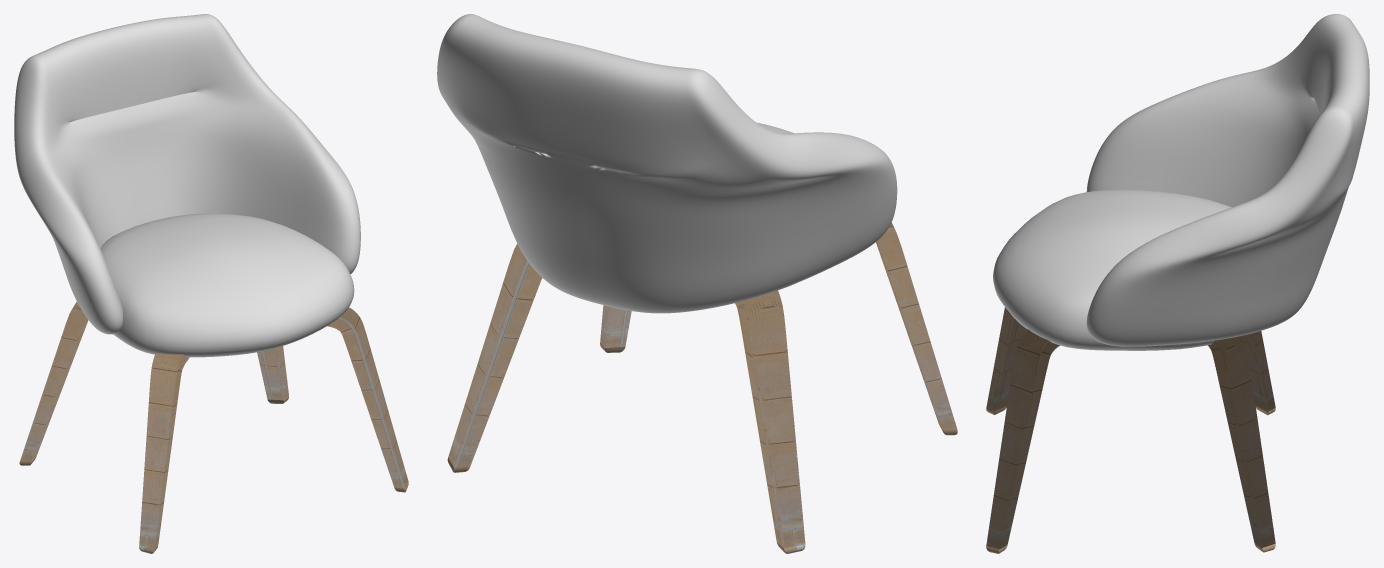
The model's file is chair_005.gltf.
3 views of the same model, side by side, from view 1: azimuth 30°, elevation 25°; view 2: azimuth 150°, elevation 25°; view 3: azimuth 270°, elevation 25° (orthographic). The views are drawn at different scales.
Visible parts, largest first — view 1: chair_005_plane, Line010_Line010; view 2: chair_005_plane, Line010_Line010; view 3: chair_005_plane, Line010_Line010.
Boxes of the visible parts, bbox=[...] form: chair_005_plane: bbox=[14, 14, 360, 357]; Line010_Line010: bbox=[19, 301, 408, 553]; chair_005_plane: bbox=[437, 14, 897, 313]; Line010_Line010: bbox=[447, 222, 957, 553]; chair_005_plane: bbox=[993, 14, 1369, 350]; Line010_Line010: bbox=[986, 307, 1275, 553].
Bounding box in the file's own units: 2.16 × 2.74 × 2.25.
